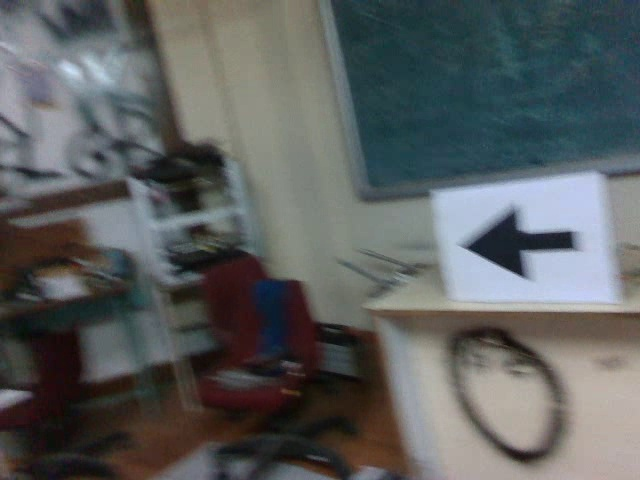Left: (451, 204, 580, 283)
